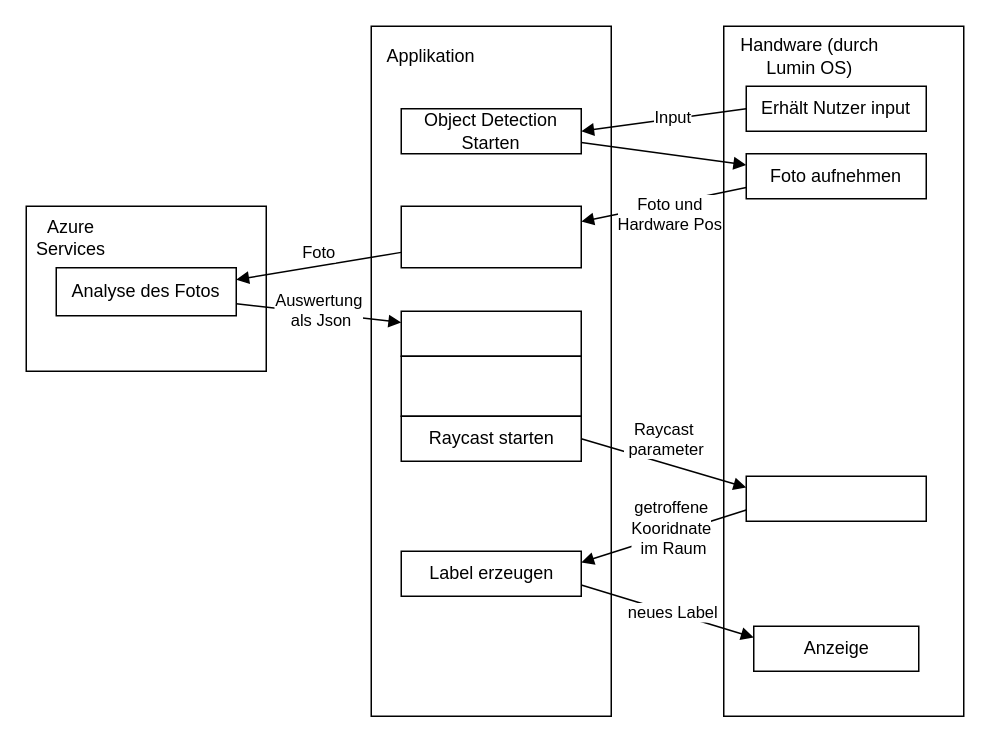
The diagram is 990 pixels wide and 743 high, and some of its shapes have lost their labels. Each missing label, with the centre of its shape:
"Anfrage an Azure erzeugen (beinhaltet Foto)" belongs at pixel 490 236.
"Json verarbeiten" belongs at pixel 490 333.
"Koordinate auf der Clipping Plane bestimmen" belongs at pixel 490 385.
"Raycast auf Spatial Map" belongs at pixel 835 498.
